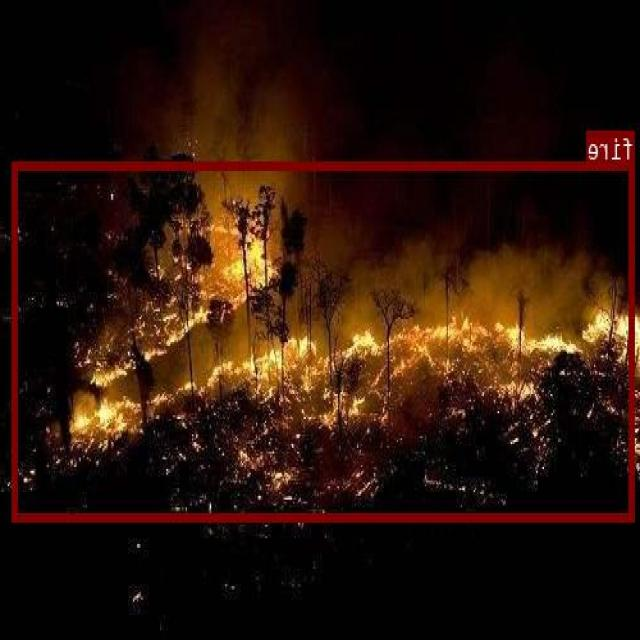fire: (13, 160, 635, 520)
